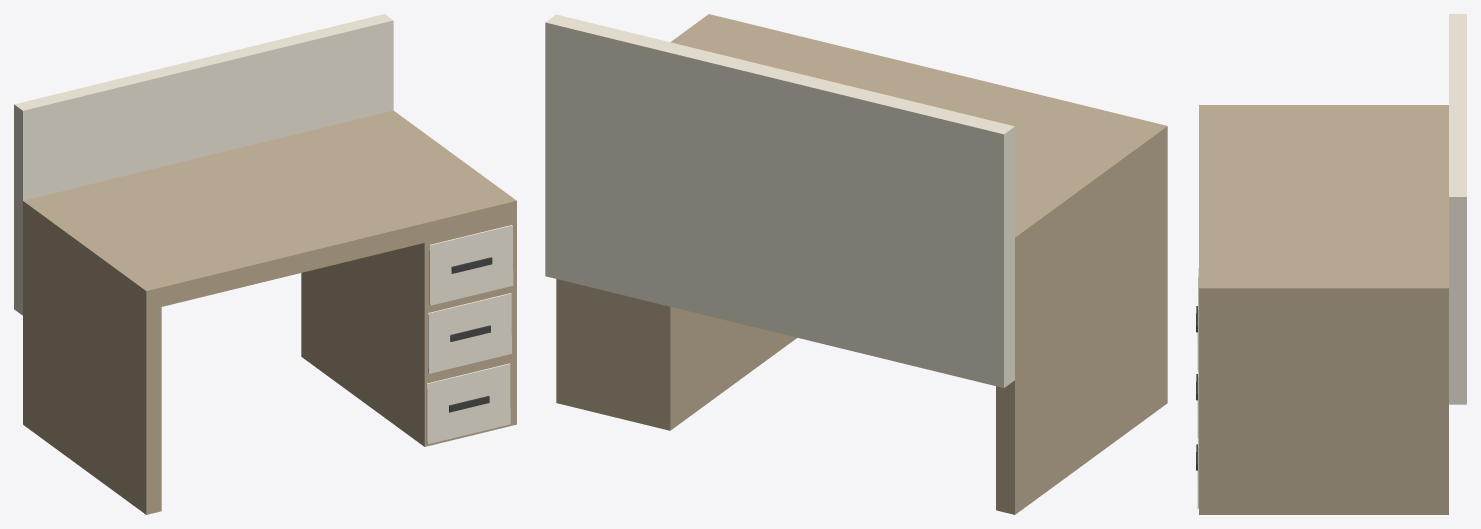
Rendered from Childroom2_Table_231109.glb.
3 renders of one model, left to right at view 1: azimuth 30°, elevation 25°; view 2: azimuth 150°, elevation 25°; view 3: azimuth 270°, elevation 25°, orthographic. The views are drawn at different scales.
Visible parts, largest first — view 1: Childroom2_Table; view 2: Childroom2_Table; view 3: Childroom2_Table.
Boxes of the visible parts, box(x1,y1,x2,y2) form: Childroom2_Table: box(14, 14, 516, 514); Childroom2_Table: box(545, 14, 1167, 514); Childroom2_Table: box(1196, 14, 1466, 514).
Size of the model in its own units: 1.88 by 1.52 by 1.18.
Materials: 1 (1 with a texture image).
